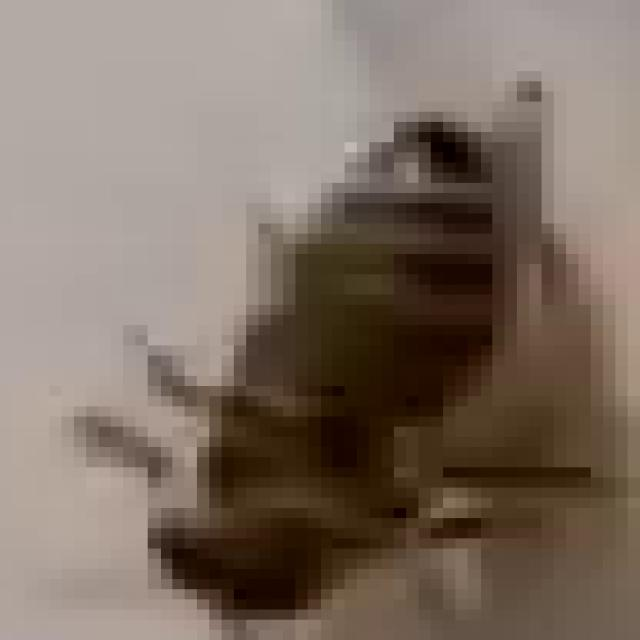honeybee: (122, 76, 597, 640)
